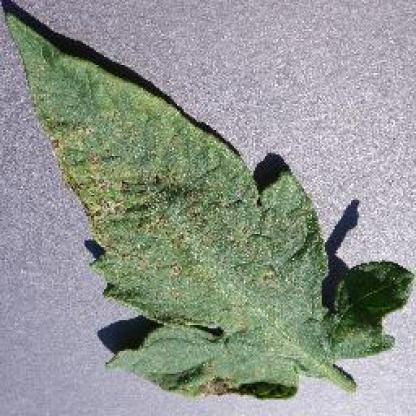bad leaf: (0, 5, 415, 404)
